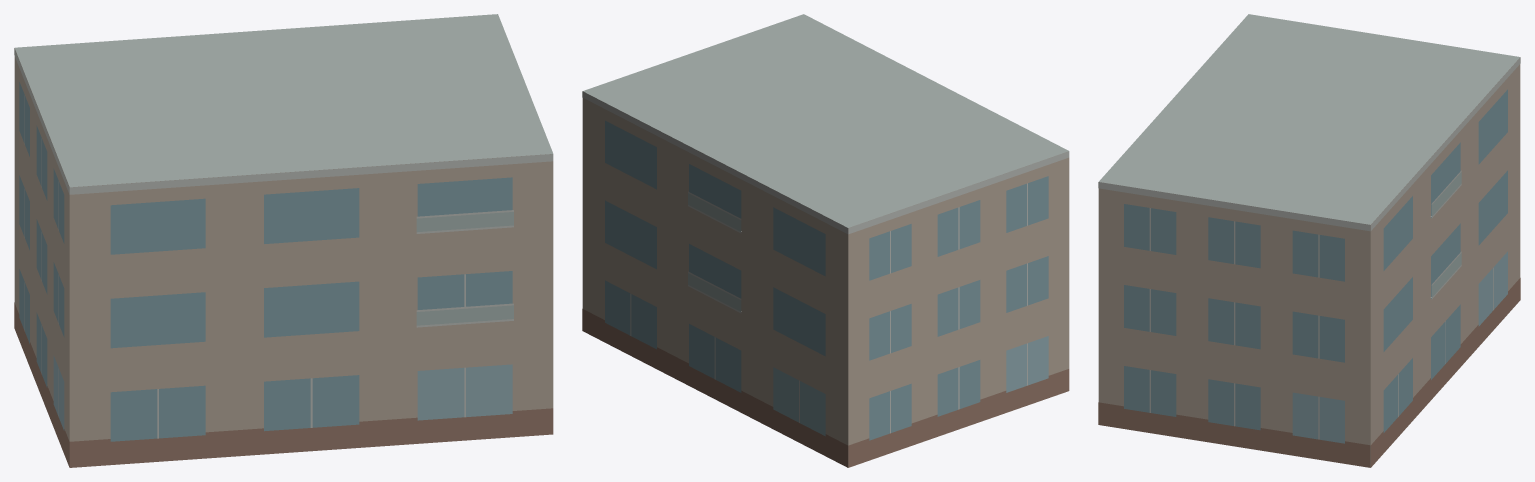
Rendered from survey-upis-32996535.glb.
The picture shows the model from 3 angles, left to right: view 1: azimuth 30°, elevation 25°; view 2: azimuth 150°, elevation 25°; view 3: azimuth 270°, elevation 25°; orthographic projection. The views are drawn at different scales.
Visible parts, largest first — view 1: survey-upis-32996535.tmp; view 2: survey-upis-32996535.tmp; view 3: survey-upis-32996535.tmp.
Boxes of the visible parts, x1=… form: survey-upis-32996535.tmp: x1=14, y1=14, x2=553, y2=467; survey-upis-32996535.tmp: x1=582, y1=14, x2=1069, y2=467; survey-upis-32996535.tmp: x1=1098, y1=14, x2=1520, y2=467.
Size of the model in its own units: 17.04 by 9.15 by 14.41.
